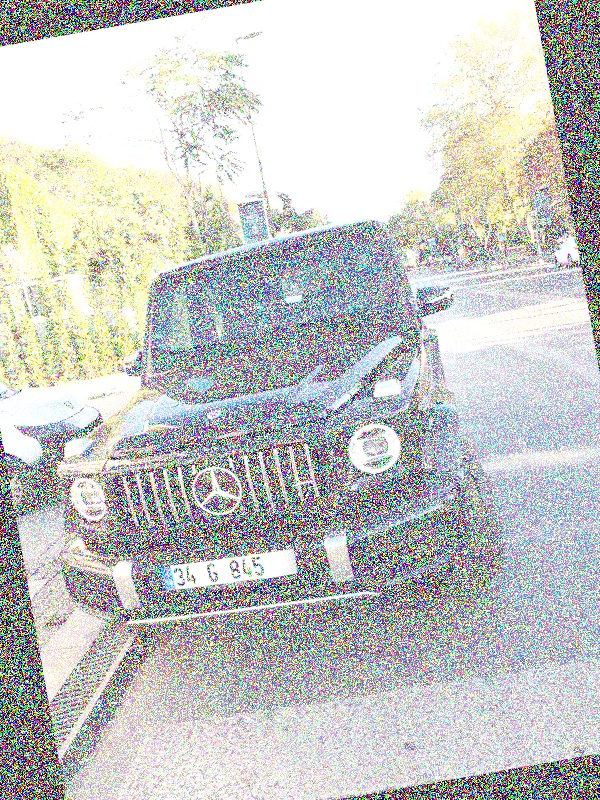plaka: (164, 549, 271, 588)
